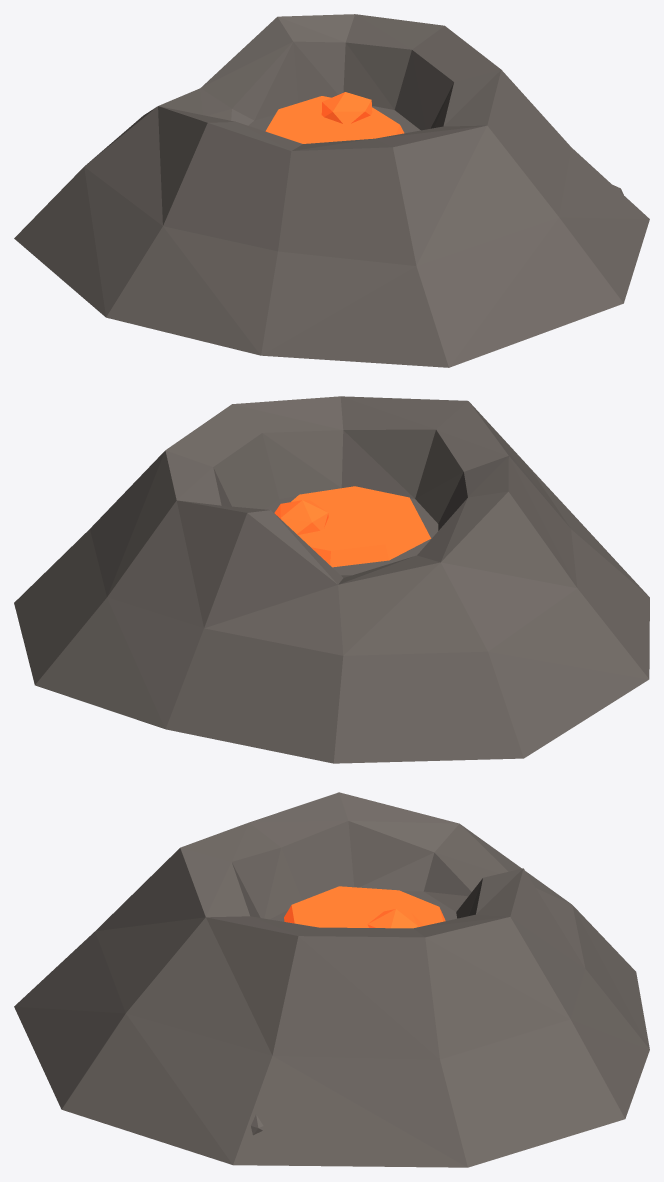
The model's file is VL_Vent.fbx.
3 renders of one model, top to bottom at view 1: azimuth 30°, elevation 25°; view 2: azimuth 150°, elevation 25°; view 3: azimuth 270°, elevation 25°, orthographic. The views are drawn at different scales.
Visible parts, largest first — view 1: VL_Vent_Cone, VL_Vent_Neon_Magma; view 2: VL_Vent_Cone, VL_Vent_Neon_Magma; view 3: VL_Vent_Cone, VL_Vent_Neon_Magma.
Part boxes in pixels (x1,y1,x2,y2): VL_Vent_Cone: (14, 14, 649, 367); VL_Vent_Neon_Magma: (265, 92, 404, 143); VL_Vent_Cone: (14, 396, 649, 763); VL_Vent_Neon_Magma: (274, 486, 430, 567); VL_Vent_Cone: (14, 792, 649, 1167); VL_Vent_Neon_Magma: (284, 886, 445, 928).
Size of the model in its own units: 10 by 3 by 10.
